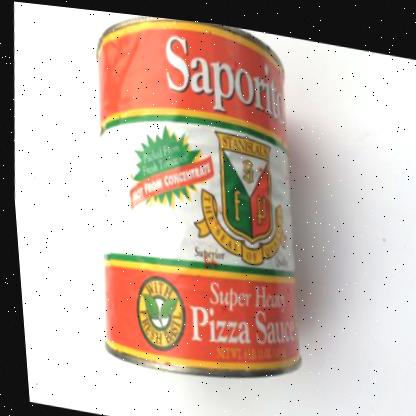Metal: (97, 13, 296, 370)
